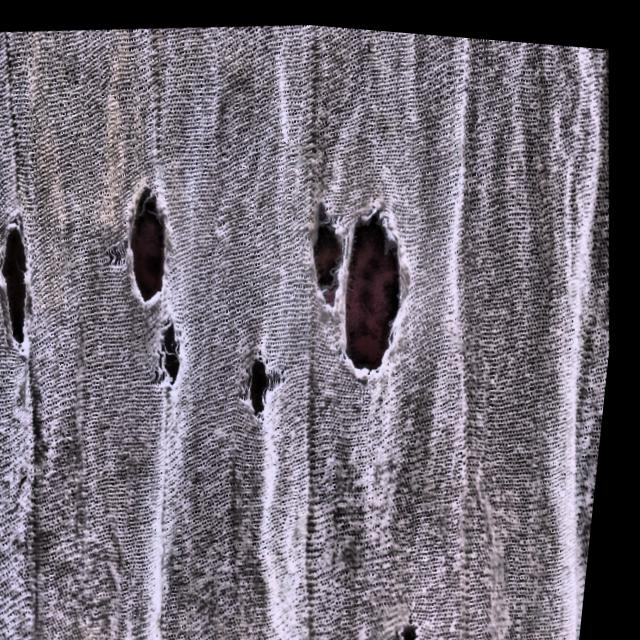Hole: (331, 180, 429, 386), (89, 172, 196, 314), (0, 196, 64, 379), (292, 185, 361, 318), (228, 340, 308, 421), (147, 309, 204, 396), (381, 590, 457, 640)
